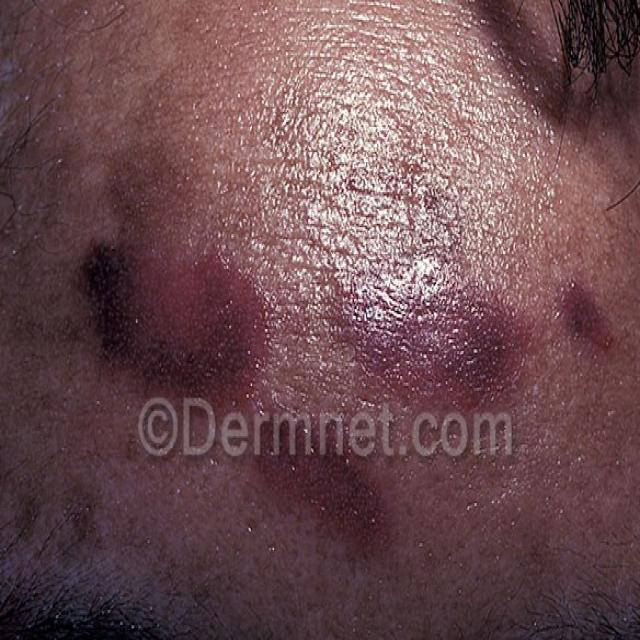Acne: (347, 199, 640, 418), (64, 214, 276, 413), (217, 359, 415, 564)
